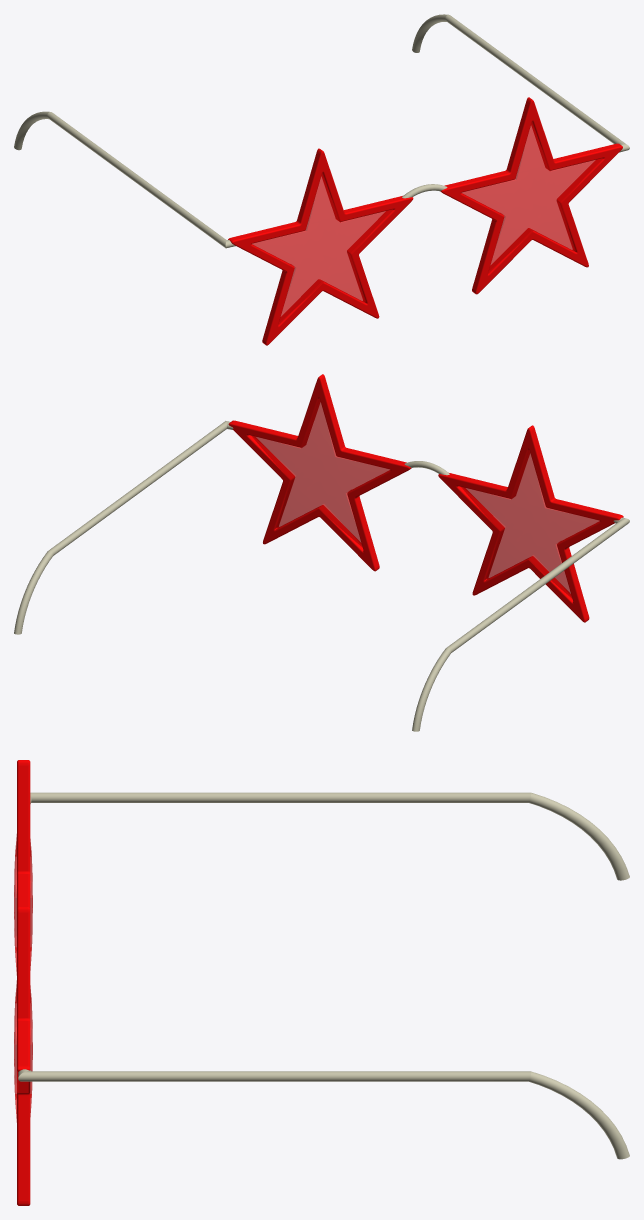
Rendered from secret_glasses.glb.
3 views of the same model, one above another, from view 1: azimuth 30°, elevation 25°; view 2: azimuth 150°, elevation 25°; view 3: azimuth 270°, elevation 25° (orthographic). The views are drawn at different scales.
Parts seen in each view (by area): view 1: Mesh5_Color_A05_0, Mesh3_Color_A05_0, Mesh2_M_96_96_96_0, Mesh4_M_96_96_96_0, Mesh1_Color_D06_0; view 2: Mesh5_Color_A05_0, Mesh3_Color_A05_0, Mesh4_M_96_96_96_0, Mesh2_M_96_96_96_0, Mesh1_Color_D06_0; view 3: Mesh1_Color_D06_0, Mesh5_Color_A05_0, Mesh3_Color_A05_0, Mesh2_M_96_96_96_0, Mesh4_M_96_96_96_0.
Boxes of the visible parts, left/top/right/bottom form: Mesh5_Color_A05_0: left=440, top=97, right=622, bottom=294; Mesh3_Color_A05_0: left=228, top=148, right=413, bottom=345; Mesh2_M_96_96_96_0: left=252, top=174, right=390, bottom=321; Mesh4_M_96_96_96_0: left=461, top=123, right=599, bottom=270; Mesh1_Color_D06_0: left=14, top=14, right=629, bottom=248; Mesh5_Color_A05_0: left=228, top=374, right=411, bottom=571; Mesh3_Color_A05_0: left=438, top=425, right=623, bottom=622; Mesh4_M_96_96_96_0: left=252, top=400, right=389, bottom=547; Mesh2_M_96_96_96_0: left=461, top=451, right=599, bottom=597; Mesh1_Color_D06_0: left=14, top=421, right=629, bottom=731; Mesh1_Color_D06_0: left=18, top=792, right=629, bottom=1159; Mesh5_Color_A05_0: left=17, top=907, right=30, bottom=1205; Mesh3_Color_A05_0: left=17, top=760, right=30, bottom=907; Mesh2_M_96_96_96_0: left=14, top=834, right=32, bottom=975; Mesh4_M_96_96_96_0: left=14, top=980, right=32, bottom=1122.
Size of the model in its own units: 1.51 by 0.6447 by 1.39.
